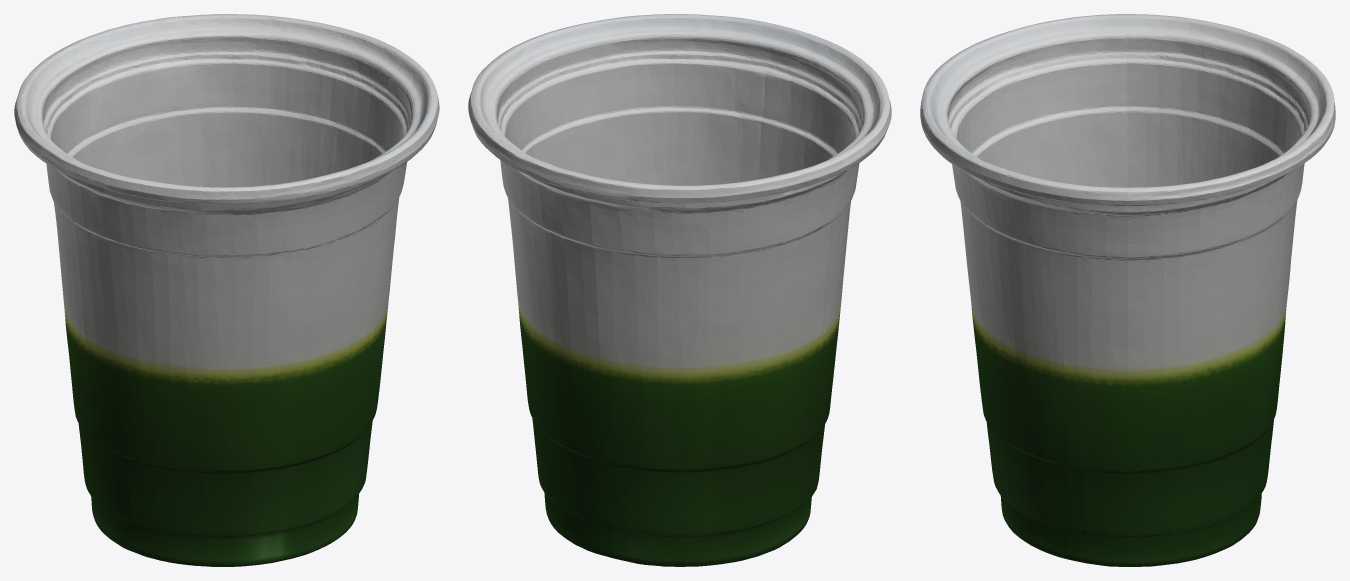
Rendered from lycomatcha.fbx.
3 renders of one model, left to right at view 1: azimuth 30°, elevation 25°; view 2: azimuth 150°, elevation 25°; view 3: azimuth 270°, elevation 25°, orthographic.
Visible parts, largest first — view 1: world; view 2: world; view 3: world.
Boxes of the visible parts, <box> form: world: <box>14,14,439,566</box>; world: <box>468,14,891,566</box>; world: <box>920,14,1335,566</box>.
Bounding box in the file's own units: 0.9387 × 0.9972 × 0.9133.
Materials: 1 (1 with a texture image).
